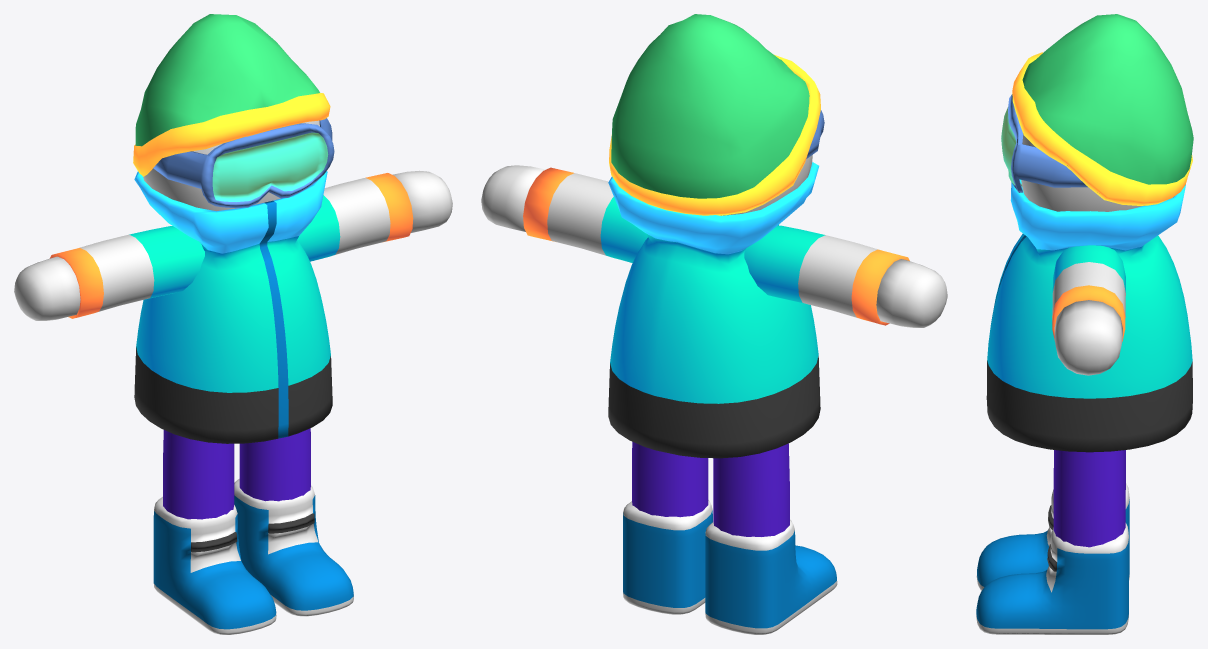
The model's file is skier.fbx.
The picture shows the model from 3 angles, left to right: view 1: azimuth 30°, elevation 25°; view 2: azimuth 150°, elevation 25°; view 3: azimuth 270°, elevation 25°; orthographic projection. The views are drawn at different scales.
Visible parts, largest first — view 1: mont, ayakkabı.001, bere, kafa.001, gözlük, eldiven; view 2: mont, bere, ayakkabı.001, kafa.001, eldiven; view 3: mont, bere, ayakkabı.001, kafa.001, eldiven, gözlük.
Boxes of the visible parts, box(x1,y1,x2,y2) form: mont: box(50, 171, 413, 443); ayakkabı.001: box(153, 479, 353, 634); bere: box(133, 14, 330, 176); kafa.001: box(143, 120, 319, 519); gözlük: box(153, 118, 334, 208); eldiven: box(14, 170, 452, 320); mont: box(523, 162, 909, 458); bere: box(609, 14, 820, 215); ayakkabı.001: box(623, 500, 837, 634); kafa.001: box(632, 155, 812, 536); eldiven: box(481, 165, 947, 327); mont: box(986, 179, 1192, 452); bere: box(1012, 14, 1193, 205); ayakkabı.001: box(976, 483, 1129, 634); kafa.001: box(1021, 133, 1173, 547); eldiven: box(1054, 300, 1122, 375); gözlük: box(1001, 94, 1087, 192).
Bounding box in the file's own units: 349 × 440 × 149.
